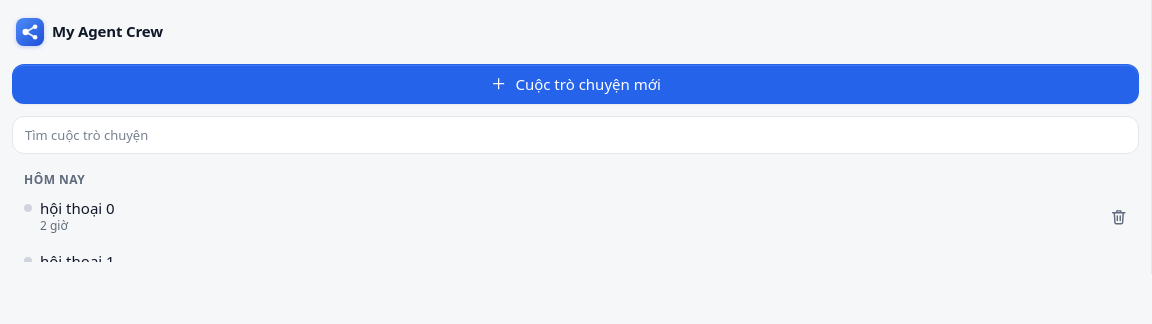
searching inside message content, not just conversation titles › keeps the row list's own 'no matches' message off when a title misses but content still hits
Type "khong-co-trong-tieu-de" into the search field labelled "Tìm cuộc trò chuyện" at (576, 135), box [12,116,1139,154]
Wait 250 ms
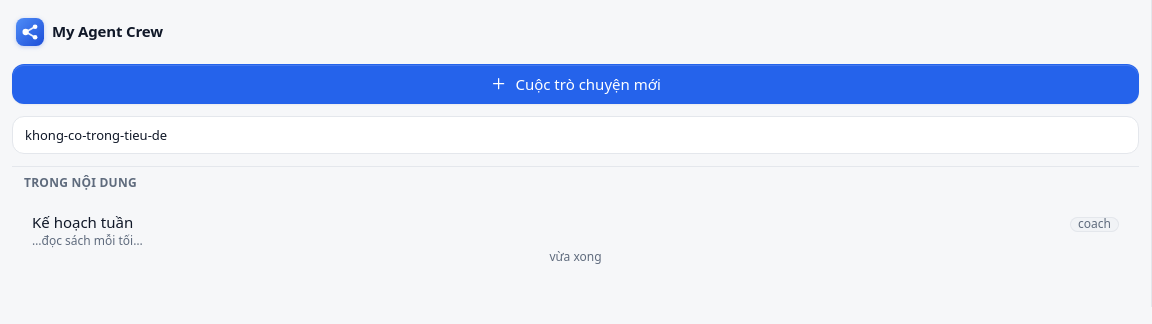
Expected: the heading "Trong nội dung" is shown, [24,174,137,191]
